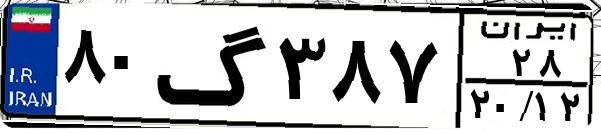0: (110, 28, 156, 98), (495, 70, 520, 125)
1: (535, 70, 560, 125)
2: (560, 70, 590, 125), (508, 27, 537, 80), (470, 70, 495, 125)
3: (270, 28, 330, 110)
7: (385, 28, 445, 110)
8: (330, 28, 385, 110), (57, 26, 110, 100), (537, 27, 568, 80)
گ: (156, 12, 270, 120)
